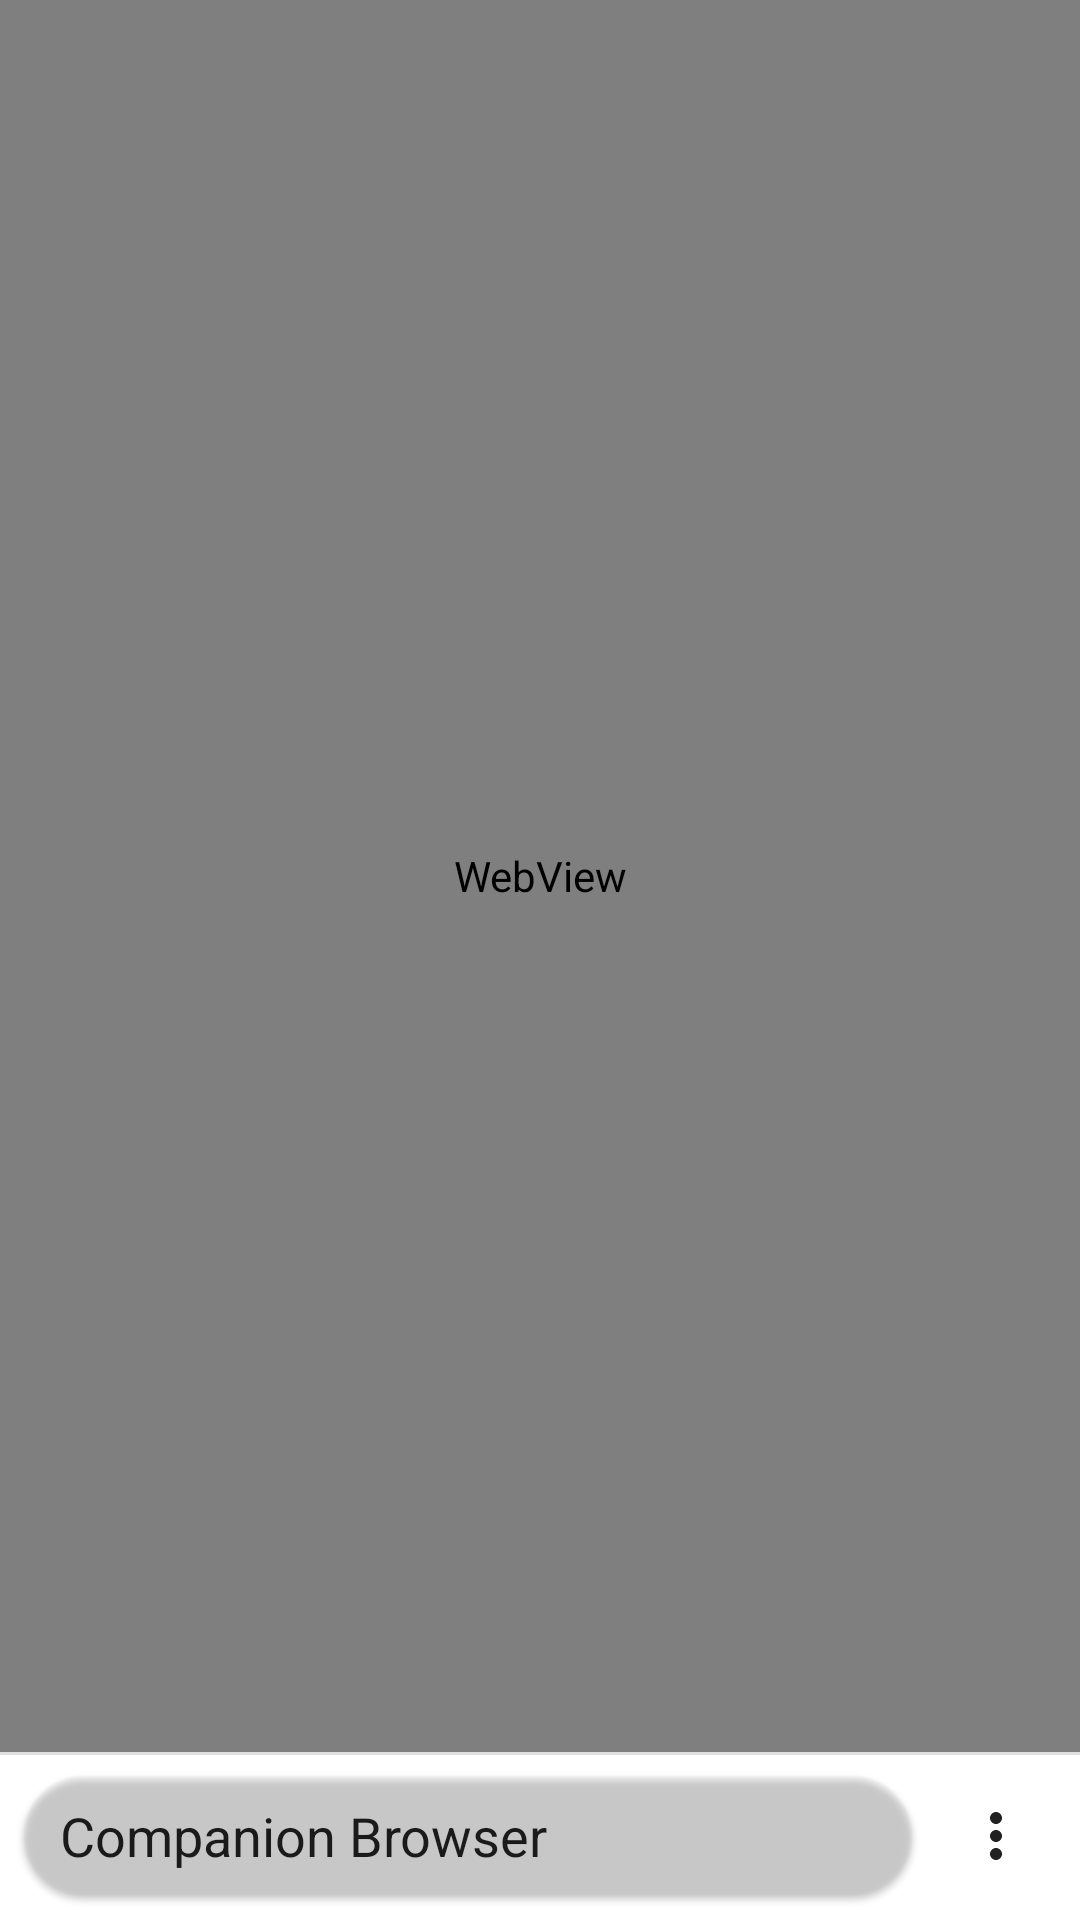

Point at icon controls on the screen. Image size 1080px×1920px, points as (x,y).
Menu: (996,1836)
